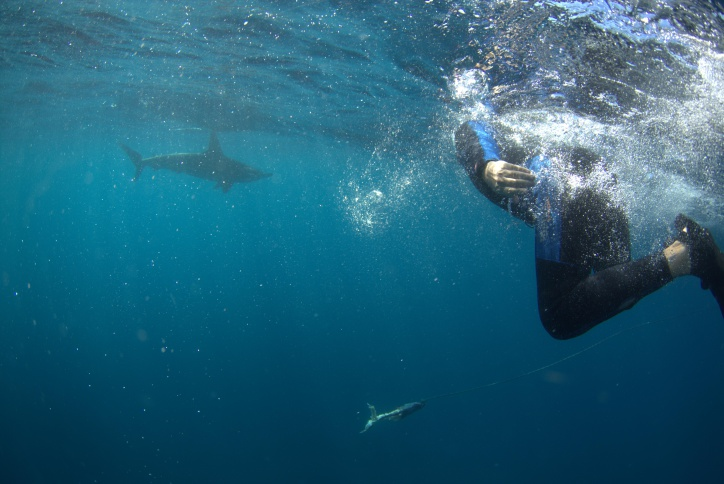Hammer: (128, 128, 294, 209)
